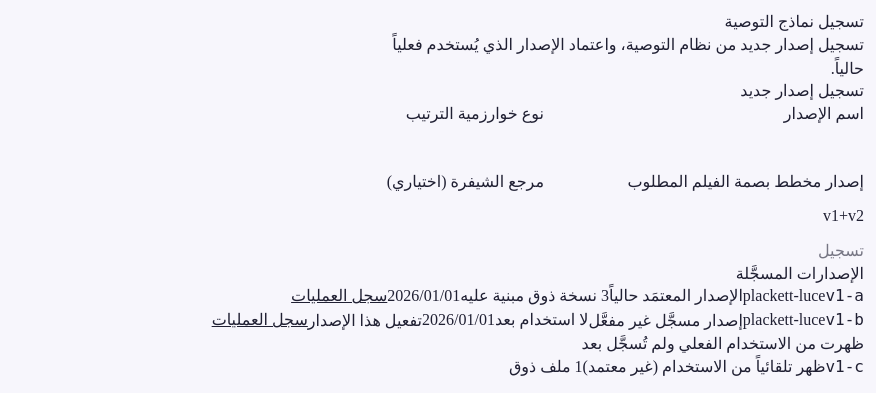
Test case: ModelRegistrationAdmin › falls back to a generic retry message when activation fails without a known reason
This screenshot has width=876, height=393.
Click the button "تفعيل هذا الإصدار": (365, 321) [308,308,422,334]
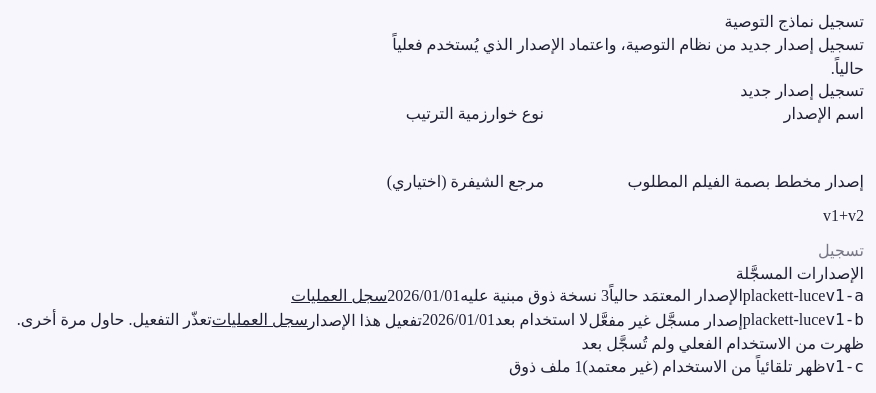
Expected: the message shows "تعذّر التفعيل", [17,311,212,328]
